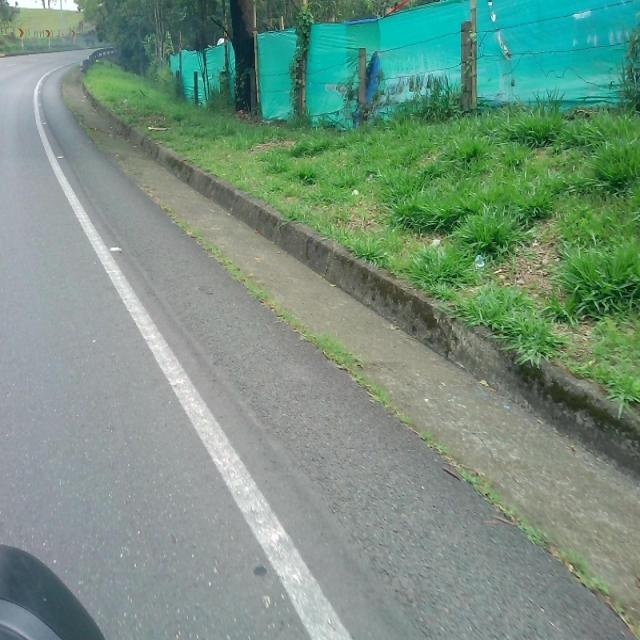DITCH: (8, 36, 638, 637), (44, 48, 638, 638), (49, 61, 638, 638)
